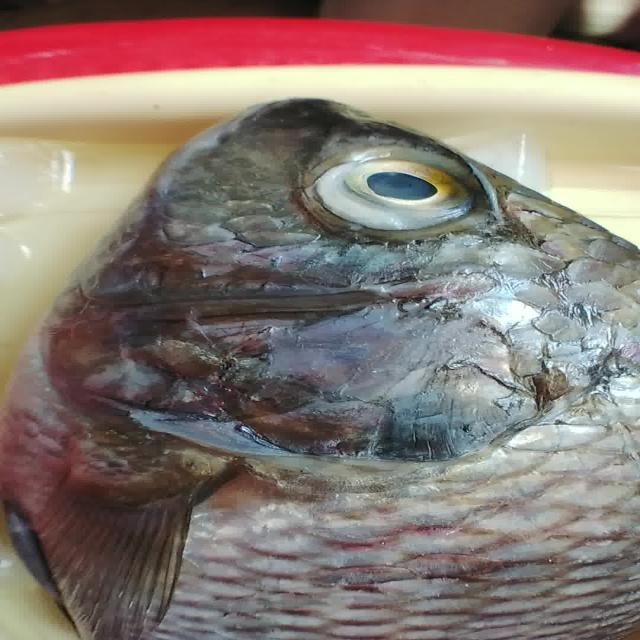Fresh: (292, 138, 508, 241)
